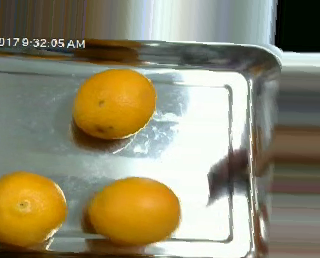Orange: (86, 175, 181, 245), (72, 67, 156, 140), (1, 171, 67, 248)
